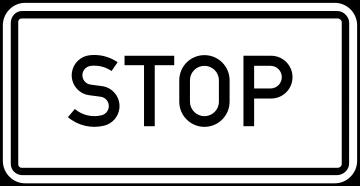Stop: (35, 12, 337, 161)
